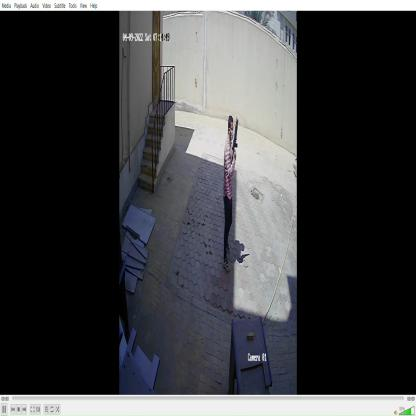handgun: (230, 106, 244, 167)
